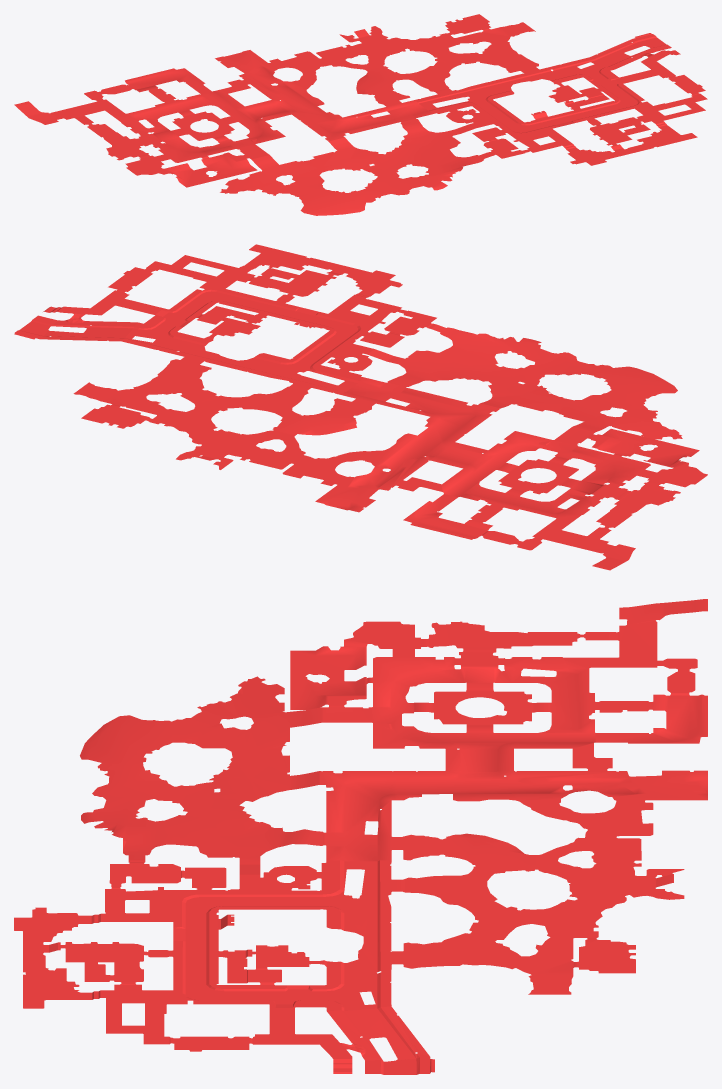
File: NaviMesh.fbx
The picture shows the model from 3 angles, top to bottom: view 1: azimuth 30°, elevation 25°; view 2: azimuth 150°, elevation 25°; view 3: azimuth 270°, elevation 25°; orthographic projection. The views are drawn at different scales.
Visible parts, largest first — view 1: Uptown, Hotel, Sandy_Beach, Forest; view 2: Uptown, Hotel, Forest, Sandy_Beach; view 3: Uptown, Hotel, Forest, Sandy_Beach.
Boxes of the visible parts, x1,y1,x2,y2 form: Uptown: [415, 33, 707, 165]; Hotel: [14, 68, 291, 187]; Sandy_Beach: [220, 100, 490, 215]; Forest: [215, 14, 538, 124]; Uptown: [14, 244, 436, 394]; Hotel: [396, 427, 707, 570]; Forest: [73, 358, 472, 512]; Sandy_Beach: [341, 324, 682, 439]; Uptown: [14, 860, 434, 1074]; Hotel: [290, 599, 707, 771]; Forest: [396, 770, 707, 994]; Sandy_Beach: [80, 676, 396, 863].
Size of the model in its own units: 187 by 3.98 by 118.
